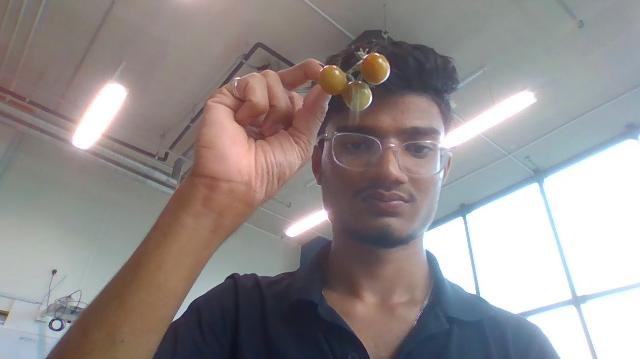Fully Grown: (359, 52, 391, 85), (317, 64, 348, 96), (342, 81, 372, 113)
